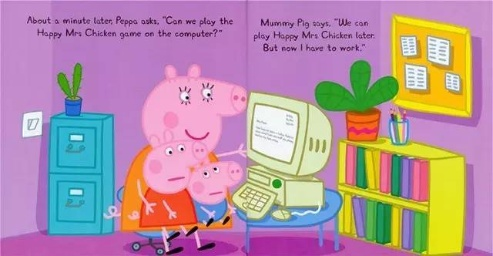Peppa: (137, 130, 216, 254)
